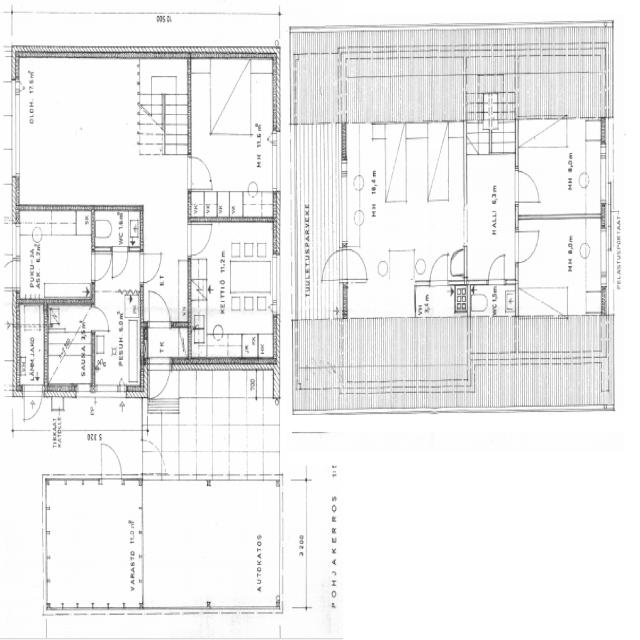door: (98, 438, 125, 485), (513, 223, 542, 266), (186, 150, 216, 191), (514, 165, 543, 206), (147, 356, 173, 401), (186, 218, 214, 258), (139, 435, 165, 478), (344, 244, 371, 285), (146, 287, 172, 329), (89, 244, 114, 284), (138, 248, 164, 286), (426, 249, 451, 286), (22, 382, 44, 422), (0, 254, 21, 292), (448, 243, 469, 280), (486, 250, 508, 284), (89, 303, 112, 335), (110, 245, 130, 281), (323, 249, 343, 281)
window: (8, 86, 24, 183), (269, 132, 282, 194), (269, 250, 282, 312), (598, 222, 611, 280), (599, 149, 611, 207), (93, 381, 124, 400), (8, 218, 21, 263), (74, 382, 92, 398)
zone: (15, 56, 188, 210), (344, 121, 467, 317), (144, 476, 282, 610), (189, 55, 278, 222), (44, 476, 144, 610), (189, 220, 277, 359), (517, 115, 604, 217), (517, 216, 606, 314), (468, 118, 518, 282), (17, 209, 94, 302), (92, 293, 142, 390), (198, 304, 276, 358), (46, 302, 94, 389), (15, 299, 46, 389), (92, 206, 142, 249), (144, 324, 188, 362), (469, 282, 517, 316), (414, 284, 462, 316), (242, 191, 276, 219)
